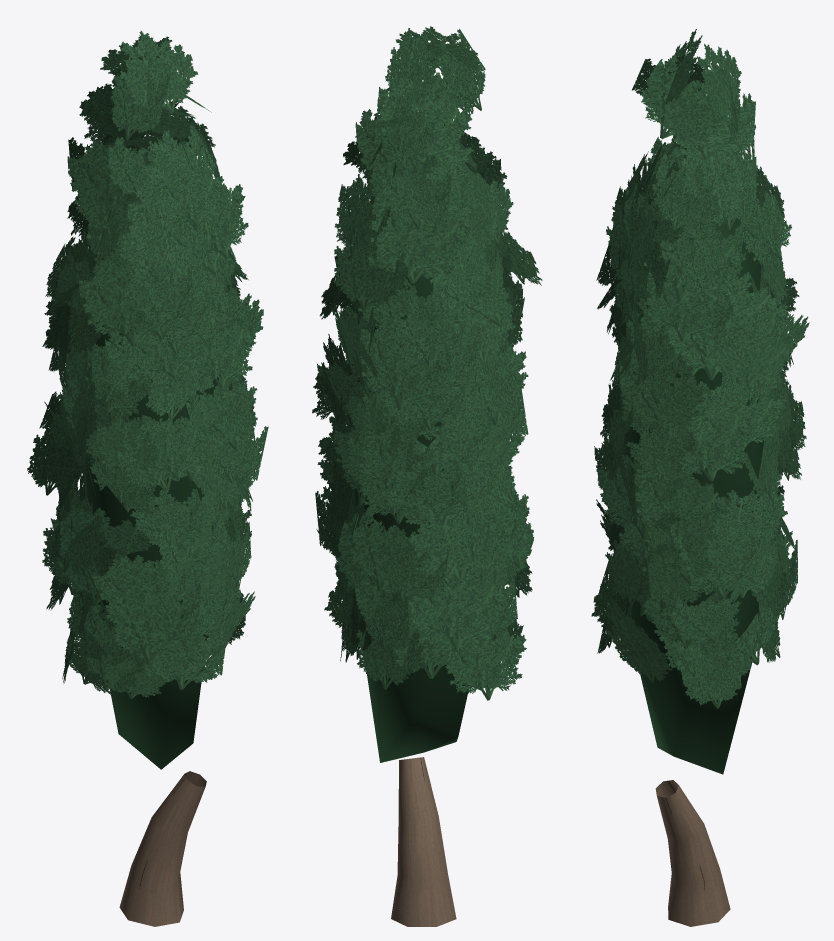
Rendered from CUPRESSUS_1.glb.
3 views of the same model, side by side, from view 1: azimuth 30°, elevation 25°; view 2: azimuth 150°, elevation 25°; view 3: azimuth 270°, elevation 25° (orthographic). The views are drawn at different scales.
Visible parts, largest first — view 1: Arv_CUPRESSUS_lod1; view 2: Arv_CUPRESSUS_lod1; view 3: Arv_CUPRESSUS_lod1.
Boxes of the visible parts, bbox=[...] form: Arv_CUPRESSUS_lod1: bbox=[27, 31, 268, 926]; Arv_CUPRESSUS_lod1: bbox=[312, 26, 542, 926]; Arv_CUPRESSUS_lod1: bbox=[591, 29, 809, 926].
Size of the model in its own units: 2.58 by 10.34 by 2.52.
Materials: 3 (2 with a texture image).
